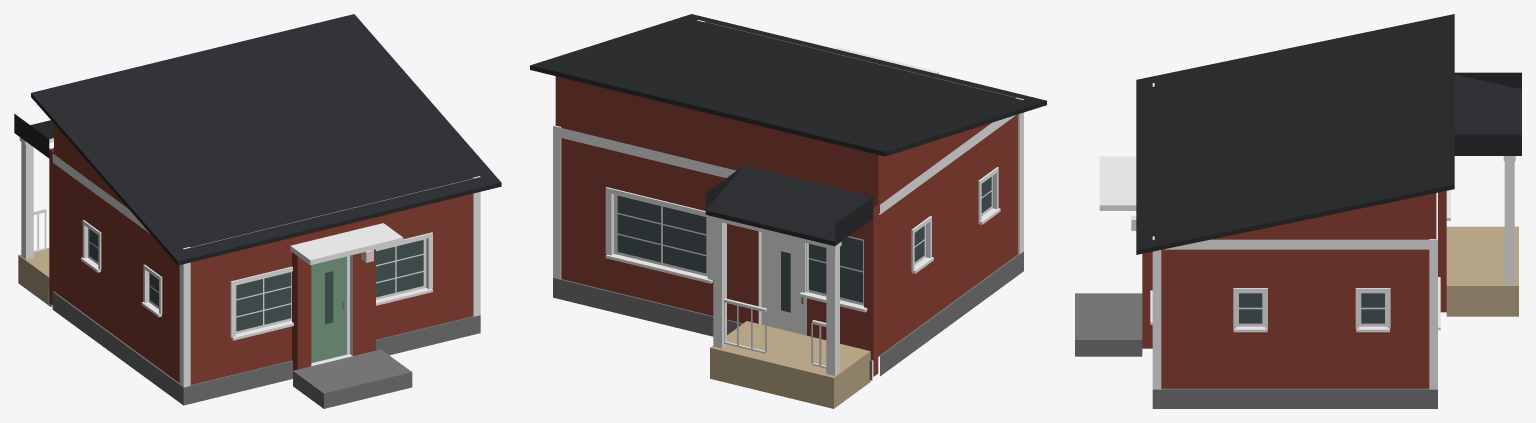
The model's file is mashup-hut_red-top-prebuilt.fbx.
The picture shows the model from 3 angles, left to right: view 1: azimuth 30°, elevation 25°; view 2: azimuth 150°, elevation 25°; view 3: azimuth 270°, elevation 25°; orthographic projection. The views are drawn at different scales.
Visible parts, largest first — view 1: a2015.hut_red; view 2: a2015.hut_red; view 3: a2015.hut_red.
Boxes of the visible parts, x1,y1,x2,y2 form: a2015.hut_red: (14,14,501,408); a2015.hut_red: (530,14,1046,408); a2015.hut_red: (1075,14,1521,408).
Size of the model in its own units: 6.6 by 4.22 by 7.3.
